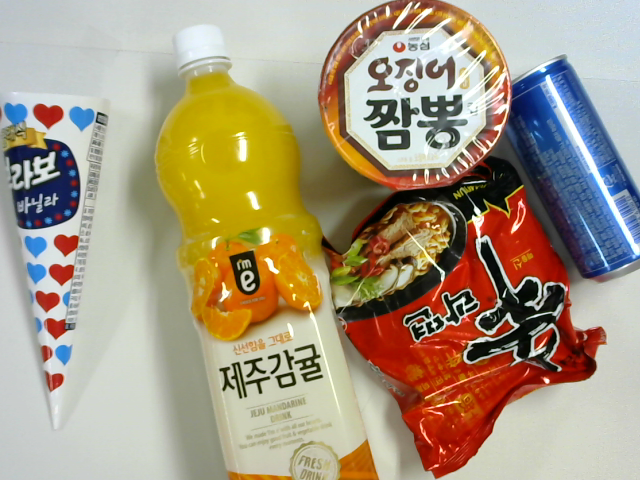Bravo_Cone_(Banila)_CVS: (1, 89, 109, 446)
Jeju_Tangerine_1.5L: (152, 18, 381, 480)
Ojjam: (319, 1, 510, 194)
Pepsi_Cola_Can_250ml: (501, 57, 640, 278)
Sinramen: (316, 156, 603, 479)
